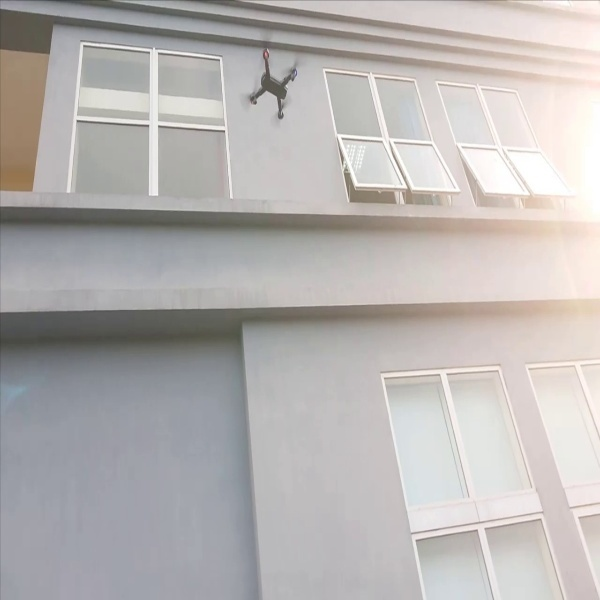drone: (238, 32, 304, 123)
